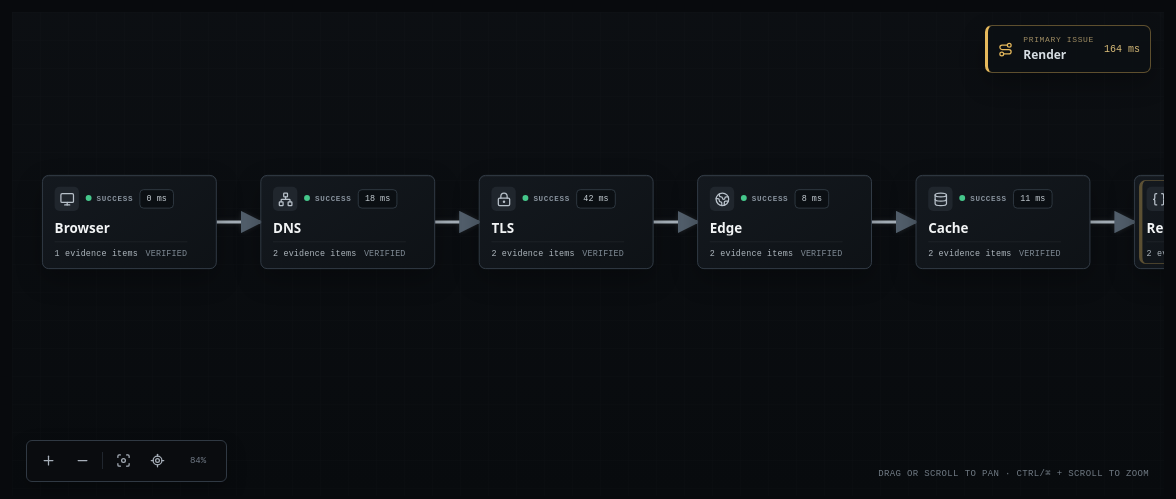
Test: JourneyCanvas › supports explicit zoom and view controls
Click the button named "Zoom in" at (48, 461), box [31, 445, 65, 477]
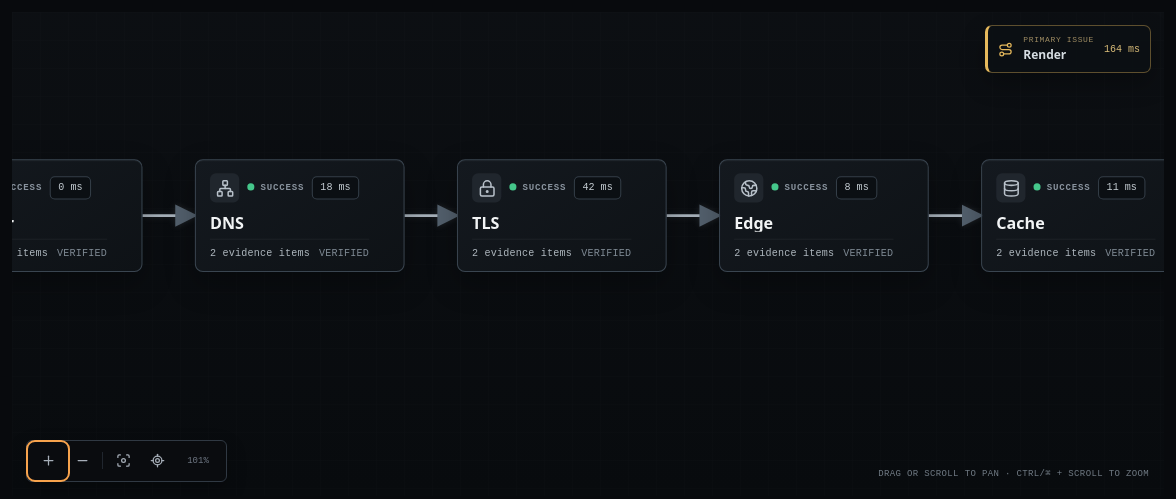
Click the button named "Fit journey to view" at (123, 461), box [106, 445, 140, 477]
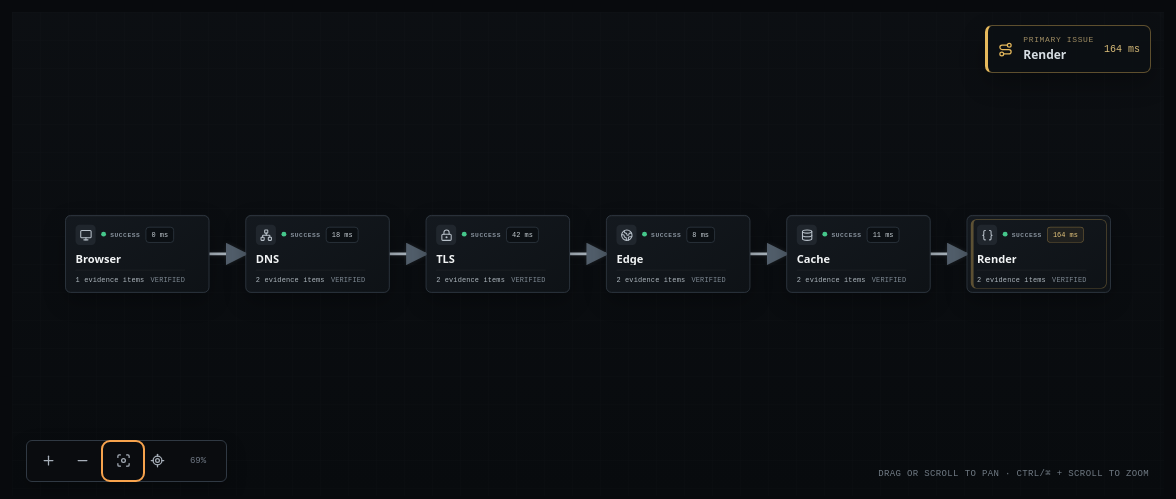
Click the button named "Reset graph view" at (157, 461), box [140, 445, 174, 477]
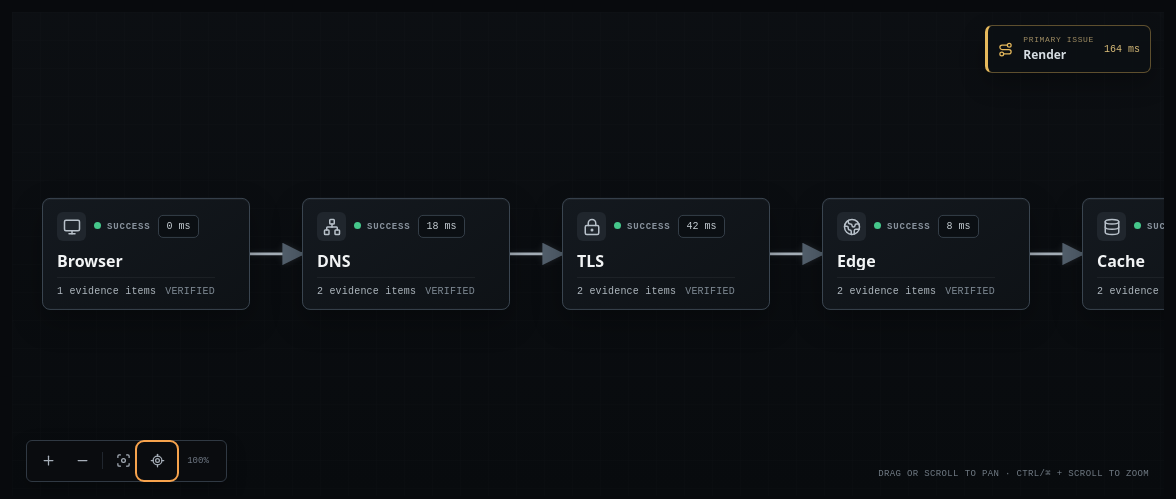
expect the text named "Zoom level" reads "100%": met, box [187, 456, 209, 466]
